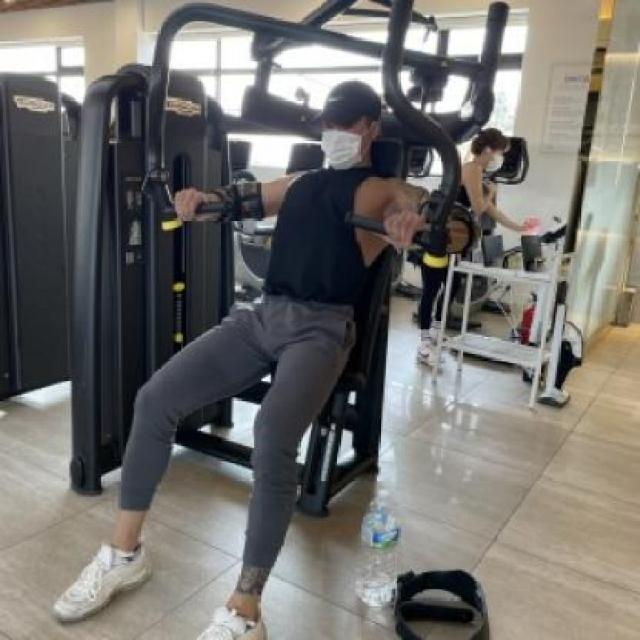Chest Press machine: (32, 0, 516, 640)
